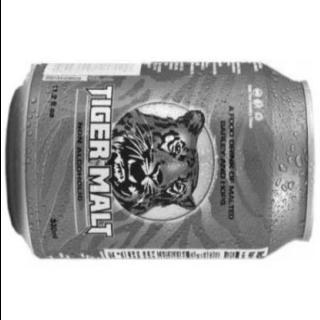alumunium_can: (3, 58, 319, 264)
